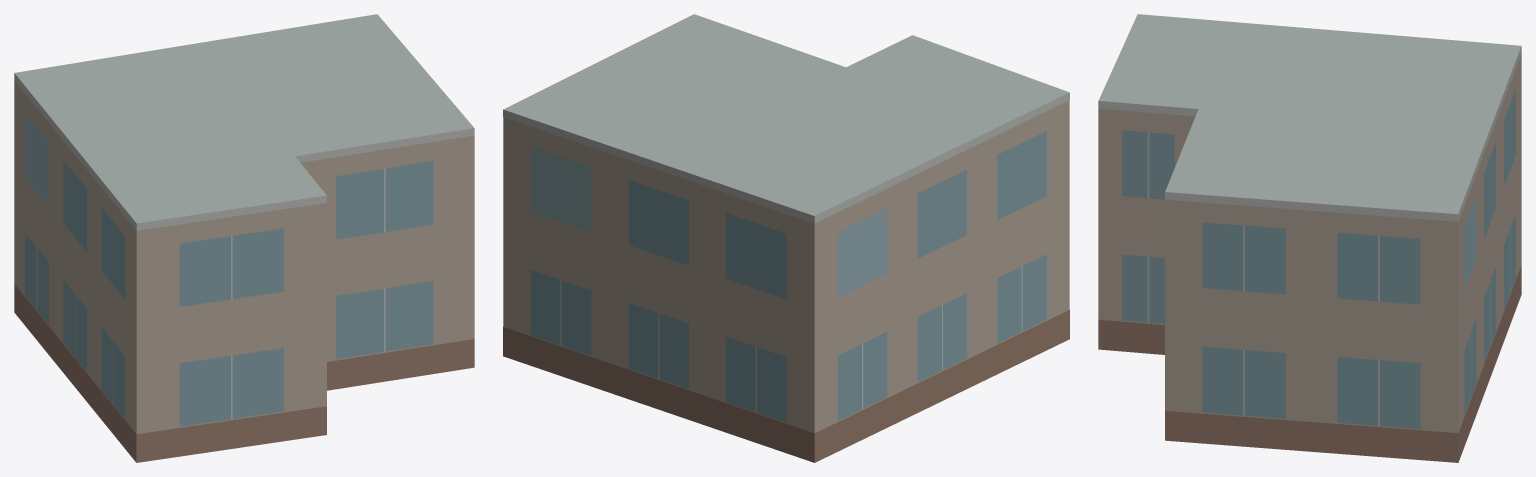
Rendered from survey-upis-32763535.glb.
3 renders of one model, left to right at view 1: azimuth 30°, elevation 25°; view 2: azimuth 150°, elevation 25°; view 3: azimuth 270°, elevation 25°, orthographic. The views are drawn at different scales.
Visible parts, largest first — view 1: survey-upis-32763535.tmp; view 2: survey-upis-32763535.tmp; view 3: survey-upis-32763535.tmp.
Part boxes in pixels (x1,y1,x2,y2): survey-upis-32763535.tmp: (14, 14, 474, 462); survey-upis-32763535.tmp: (503, 14, 1069, 462); survey-upis-32763535.tmp: (1098, 14, 1521, 462).
Size of the model in its own units: 13.74 by 7.95 by 12.27.
